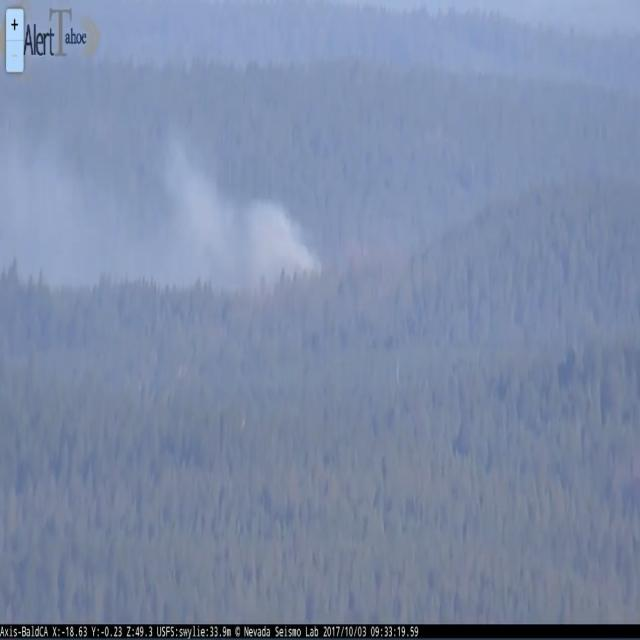smoke: (2, 112, 326, 293)
